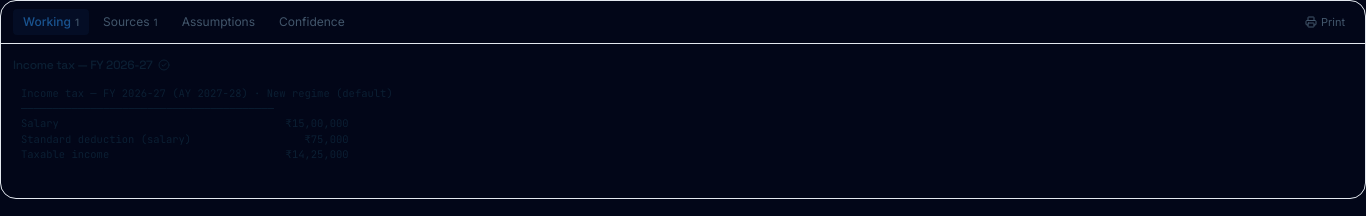
Test case: Assumptions are addressable, not merely visible › says so when nothing was assumed rather than showing an empty box
Click the tab "Assumptions". click: (218, 22)
box: [172, 9, 265, 35]
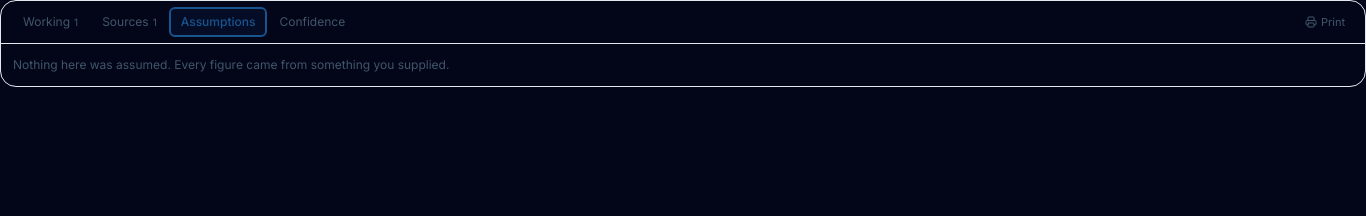
Now the panel named "assumptions" shows "Nothing here was assumed", box [13, 57, 449, 72]
